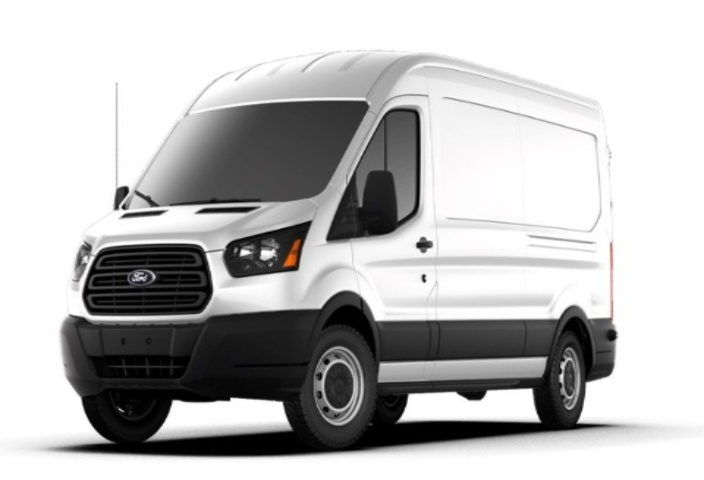van: (68, 41, 634, 454)
